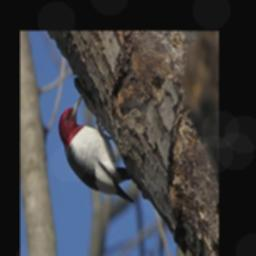Woodpecker: (54, 90, 140, 204)
